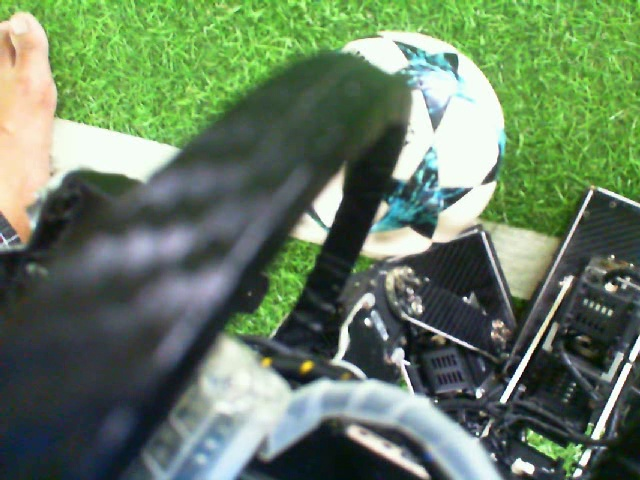ball: (359, 26, 511, 260)
